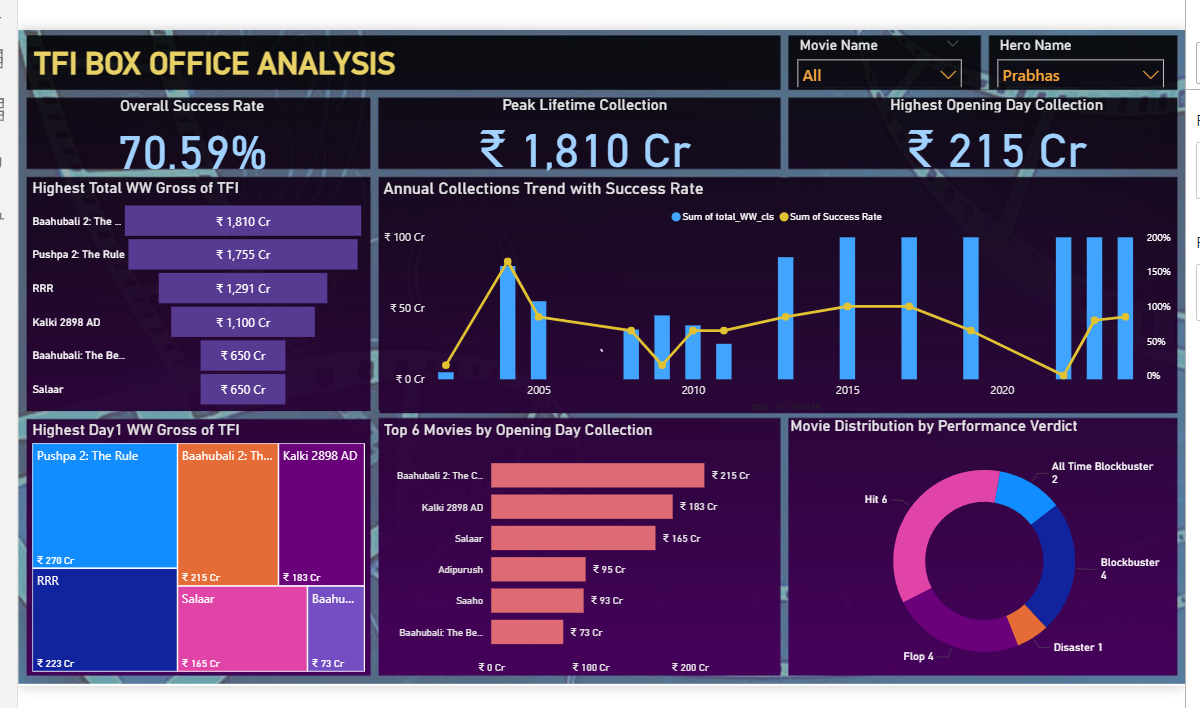

This screenshot's page, from the dashboard's own definition file:
{"tool":"powerbi","page":{"name":"Page 1","canvas":[1280,720],"ordinal":0},"visuals":[{"type":"slicer","fields":{"Values":["data3.hero_name"]},"box":[1063.7,2.7,202.9,60.3],"z":0},{"type":"card","title":"Highest Opening Day Collection","fields":{"Values":["data3.day1_WW_Gross_cr"]},"box":[925.3,71.3,296.1,89.1],"z":1000},{"type":"card","title":"Overall Success Rate","fields":{"Values":["data3.Success%"]},"box":[69.9,72.6,242.6,89.1],"z":2000},{"type":"funnel","title":"Highest Total WW Gross of TFI","fields":{"Category":["Movies.movie_name"],"Y":["Movies.Total_WW_Cr"]},"box":[11,163.1,375.6,256.3],"z":3000},{"type":"donutChart","title":"Movie Distribution by Performance Verdict","fields":{"Category":["data3.verdict"],"Y":["data3.movie_name"]},"box":[847.1,423.6,424.9,292],"z":4000},{"type":"slicer","fields":{"Values":["data3.movie_name"]},"box":[844.4,2.7,200.1,60.3],"z":5000},{"type":"lineStackedColumnComboChart","title":"Annual Collections Trend with Success Rate","fields":{"Category":["data3.year_of_release"],"Y2":["data3.Success Rate"],"Y":["data3.total_WW_cls"]},"box":[397.5,163.1,873.2,255],"z":6000},{"type":"clusteredBarChart","title":" Top 6 Movies by Opening Day Collection","fields":{"Category":["data3.movie_name"],"Y":["data3.day1_WW_Gross_cr"]},"box":[396.1,427.7,438.6,286.5],"z":7000},{"type":"treemap","title":"Highest Day1 WW Gross of TFI","fields":{"Group":["Movies.movie_name"],"Values":["Movies.Day1_WW_Cr"]},"box":[11,427.7,374.2,281],"z":8000},{"type":"card","title":"Peak Lifetime Collection","fields":{"Values":["data3.total_WW_cls"]},"box":[485.2,71.3,272.8,89.1],"z":9000},{"type":"textbox","box":[12.3,12.3,440,54.8],"z":10000}]}

Visuals, with their boxes in screenshot pixels (x1, y1, x2, y2):
slicer - data3.hero_name: 990:27:1177:83
"Highest Opening Day Collection" card: 862:91:1135:173
"Overall Success Rate" card: 71:92:295:174
"Highest Total WW Gross of TFI" funnel: 16:176:364:413
"Movie Distribution by Performance Verdict" donutChart: 789:417:1182:687
slicer - data3.movie_name: 787:27:972:83
"Annual Collections Trend with Success Rate" lineStackedColumnComboChart: 374:176:1181:412
" Top 6 Movies by Opening Day Collection" clusteredBarChart: 372:420:778:685
"Highest Day1 WW Gross of TFI" treemap: 16:420:362:680
"Peak Lifetime Collection" card: 455:91:707:173
textbox: 18:36:424:87
